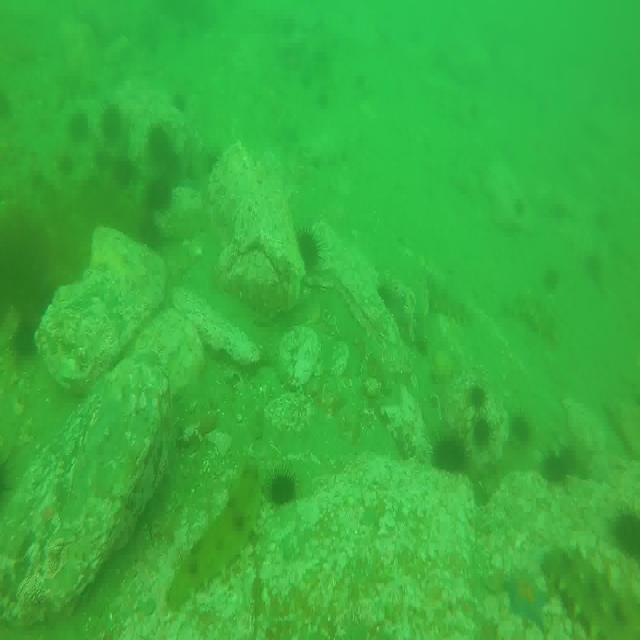echinus: (430, 437, 471, 479), (610, 507, 640, 563), (294, 228, 323, 272), (116, 149, 139, 198), (151, 126, 175, 172), (66, 109, 92, 148), (14, 321, 40, 359), (99, 105, 123, 146), (272, 470, 298, 506), (544, 446, 569, 481), (509, 412, 531, 447), (148, 173, 170, 207), (470, 418, 493, 450), (0, 455, 10, 514), (470, 387, 488, 415), (544, 266, 561, 292)
holothurian: (169, 458, 262, 616), (544, 550, 640, 640)
starfish: (506, 568, 551, 630)
